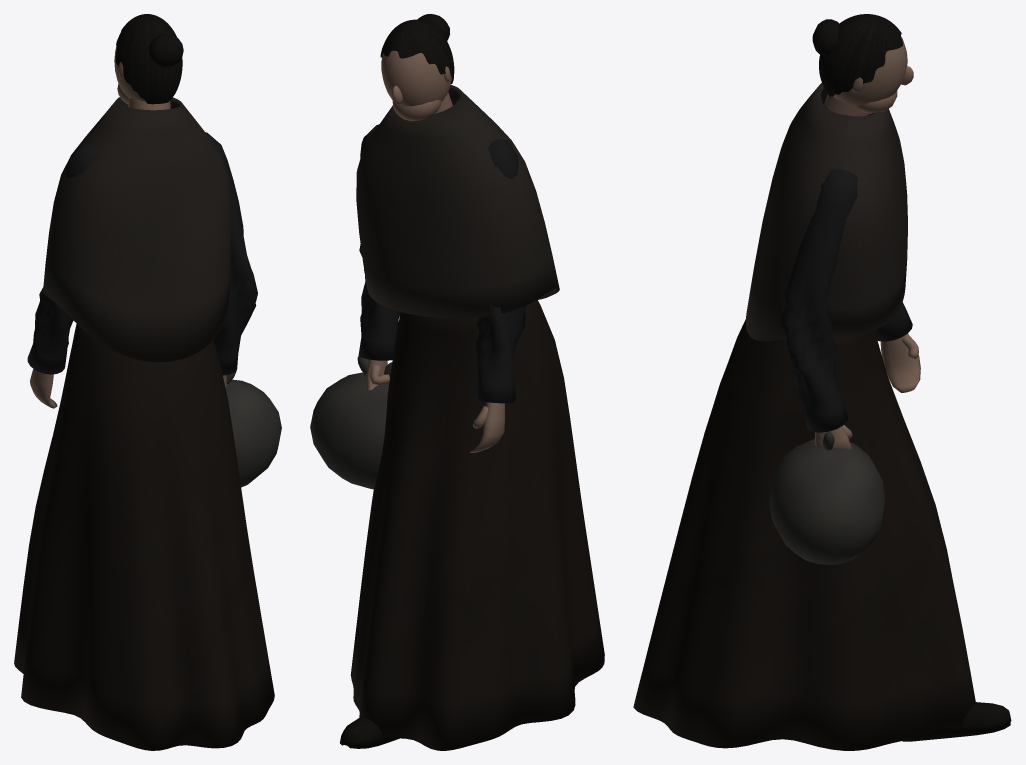
The model's file is walker-woman-hand-bundle.glb.
3 renders of one model, left to right at view 1: azimuth 30°, elevation 25°; view 2: azimuth 150°, elevation 25°; view 3: azimuth 270°, elevation 25°, orthographic. The views are drawn at different scales.
Parts seen in each view (by area): view 1: walker-woman-hand-bundle-body; view 2: walker-woman-hand-bundle-body; view 3: walker-woman-hand-bundle-body.
Part boxes in pixels (left/top/right/bottom): walker-woman-hand-bundle-body: left=14, top=14, right=281, bottom=750; walker-woman-hand-bundle-body: left=310, top=14, right=604, bottom=750; walker-woman-hand-bundle-body: left=633, top=14, right=1011, bottom=750.
Size of the model in its own units: 0.5923 by 1.54 by 0.7165.
Materials: 8 (6 with a texture image).
